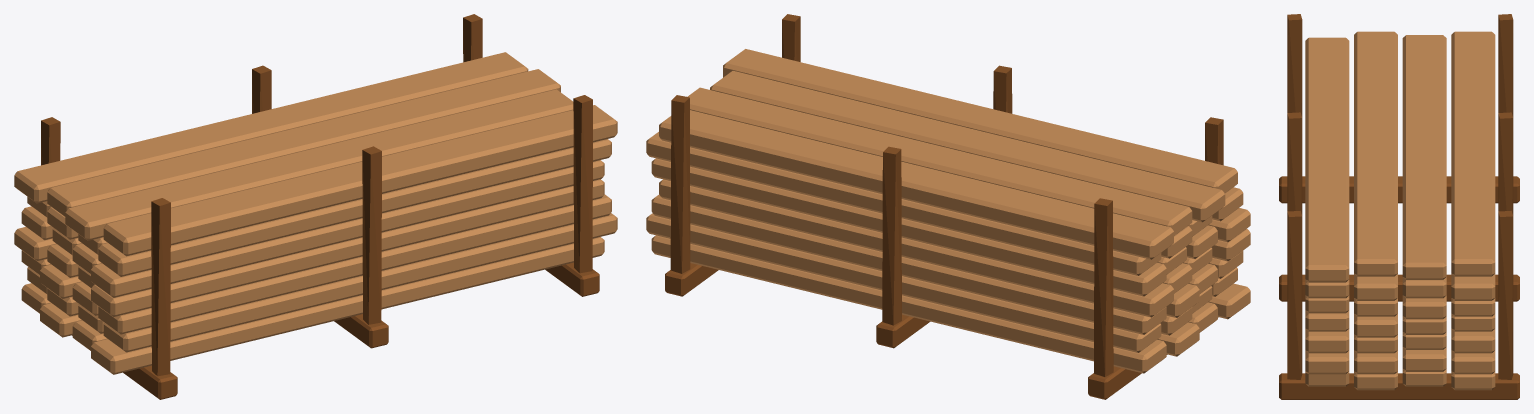
The model's file is planks.glb.
3 renders of one model, left to right at view 1: azimuth 30°, elevation 25°; view 2: azimuth 150°, elevation 25°; view 3: azimuth 270°, elevation 25°, orthographic. The views are drawn at different scales.
Visible parts, largest first — view 1: Plank Holder; view 2: Plank Holder; view 3: Plank Holder.
Boxes of the visible parts, <box> form: Plank Holder: <box>14,14,617,399</box>; Plank Holder: <box>646,14,1250,399</box>; Plank Holder: <box>1279,14,1519,399</box>.
Size of the model in its own units: 0.4 by 0.144 by 0.172.
